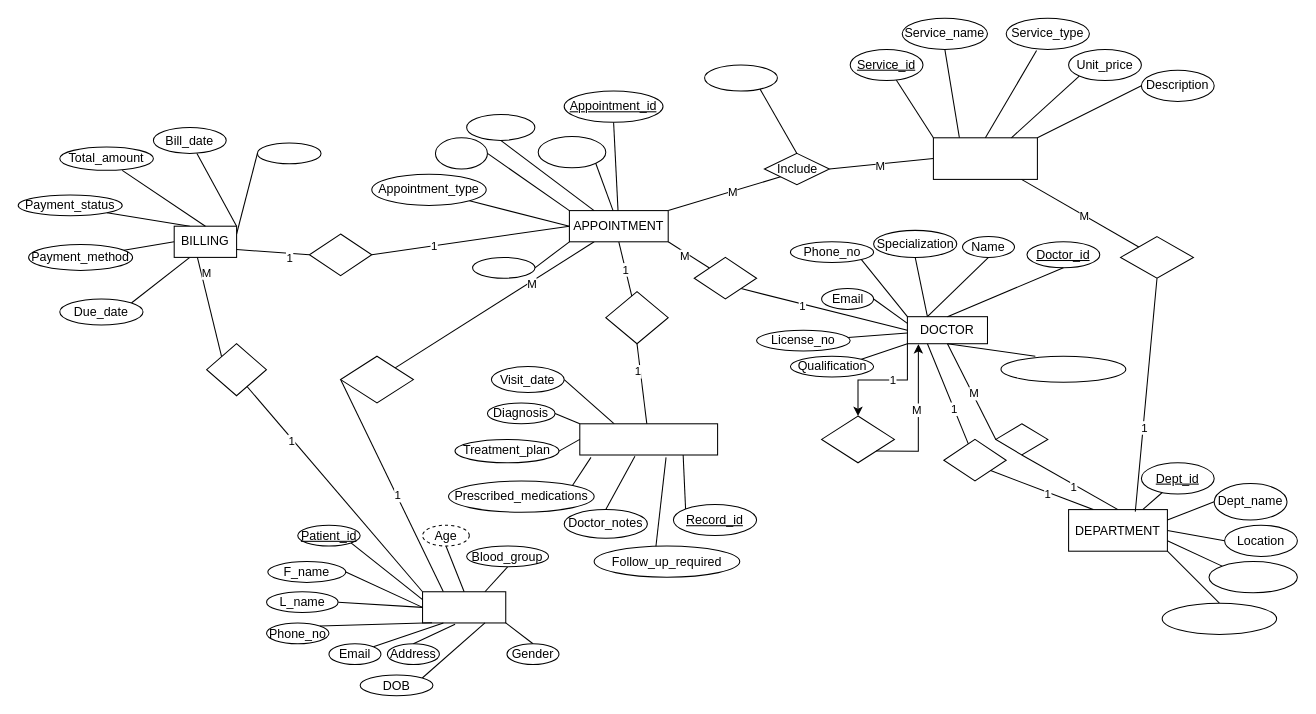
The diagram is 1316 pixels wide and 714 high, and some of its shapes have lost their labels. The shapes that lost their labels are listed below. From the top down, each one's centre as x and y in pixels, then its label:
pixel 740 77: Quantity
pixel 500 126: Time
pixel 288 153: Bill_id
pixel 460 153: Status
pixel 571 152: Date
pixel 984 158: SERVICE
pixel 340 254: Related
pixel 503 267: Reason
pixel 1156 257: Offers
pixel 725 277: Have
pixel 636 317: Results
pixel 236 369: Receive
pixel 376 379: Schedule
pixel 1063 368: Years_of_experience
pixel 648 439: MEDICAL_RECORD
pixel 857 439: Supervise
pixel 974 459: Manage
pixel 1021 439: Work
pixel 1252 577: No_of_doctors
pixel 464 607: PATIENT
pixel 1219 618: Contact_number
